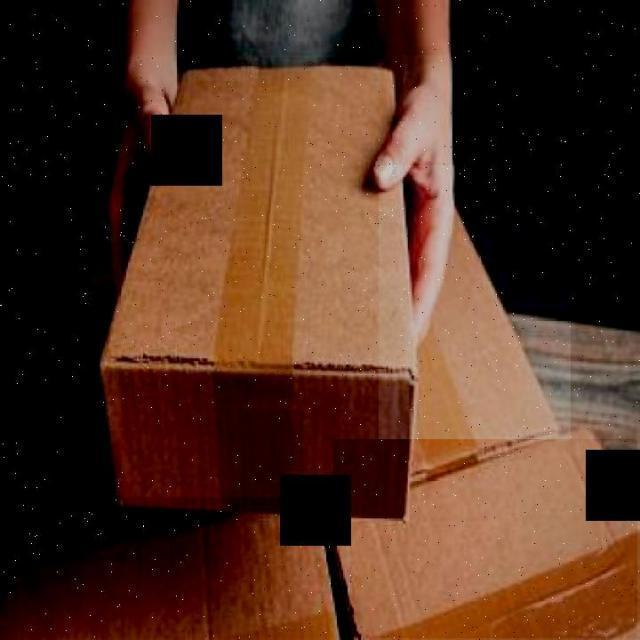box: (90, 55, 453, 531), (378, 166, 570, 508), (333, 439, 638, 638), (2, 496, 350, 638)
